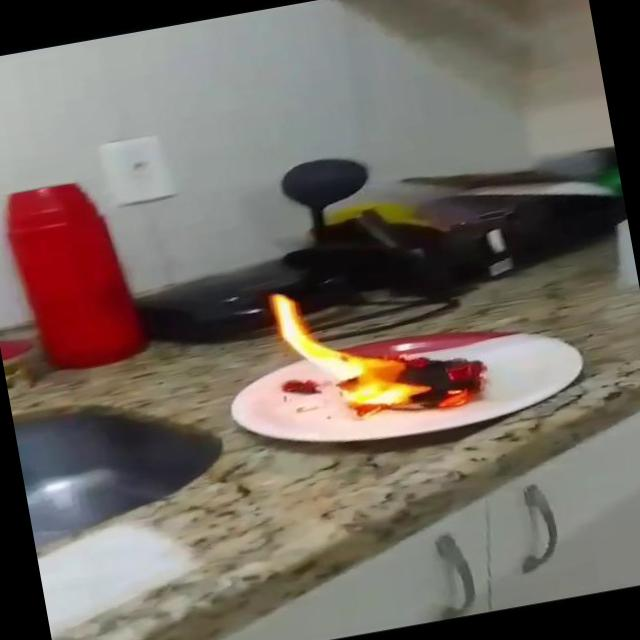Fire: (262, 256, 502, 441)
